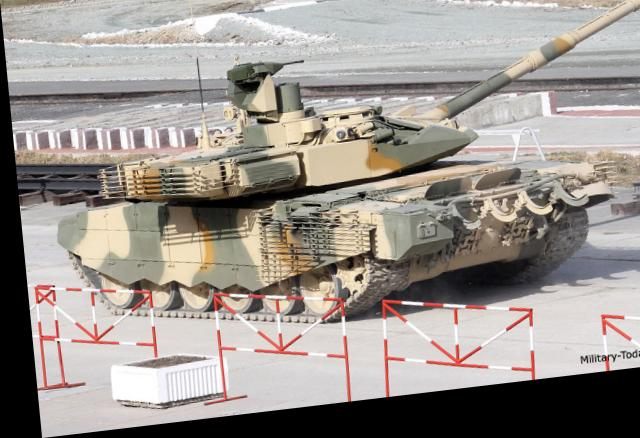tank: (53, 91, 587, 329)
